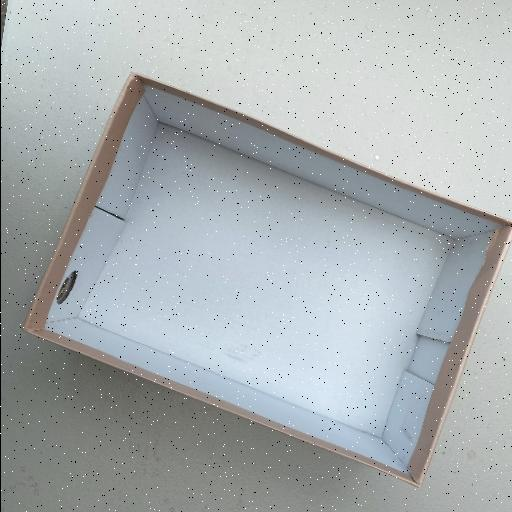Cardboard: (20, 70, 510, 488)
